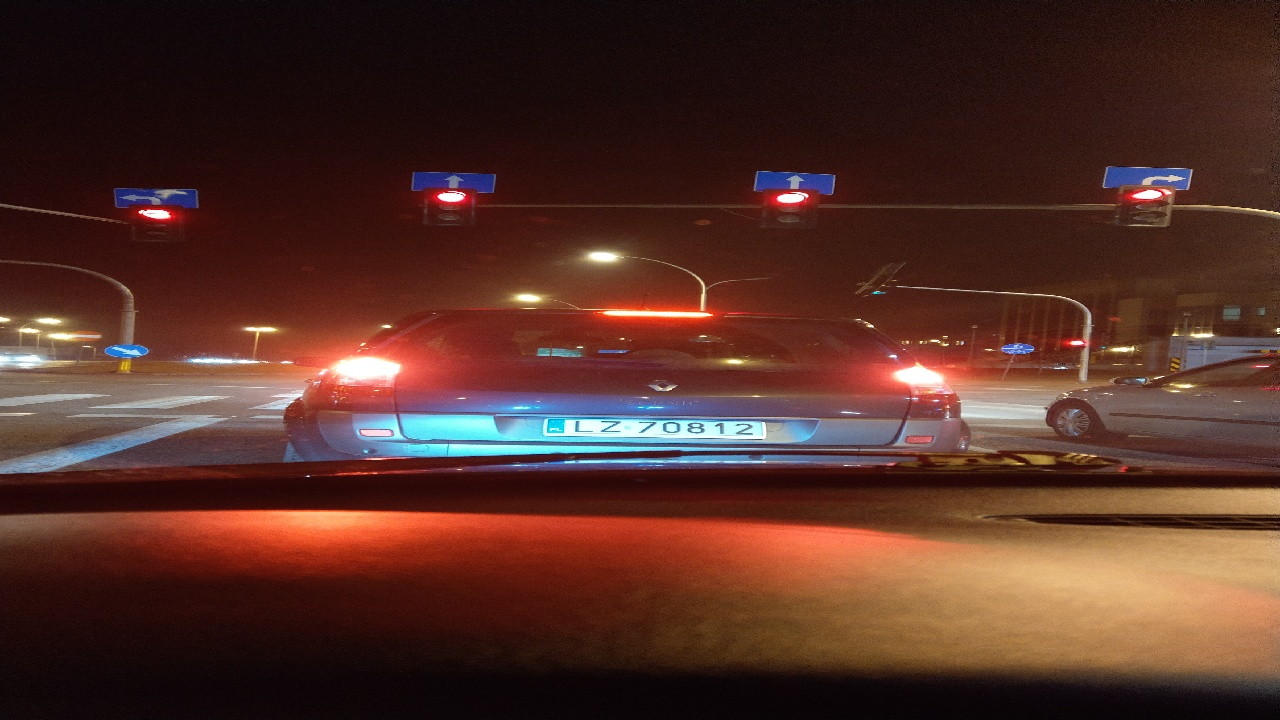C9: (105, 344, 149, 359)
Red: (776, 190, 805, 225), (1136, 187, 1162, 225), (144, 207, 169, 242), (437, 189, 462, 222)
